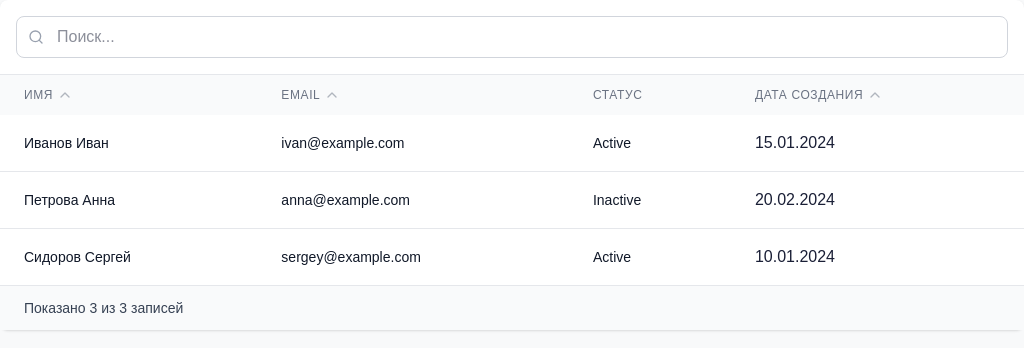
Scenario: DataTable Component › handles search functionality
// Ищем по имени
In the field with placeholder "Поиск...": (512, 37) [16,16,1008,58], type "Иванов"
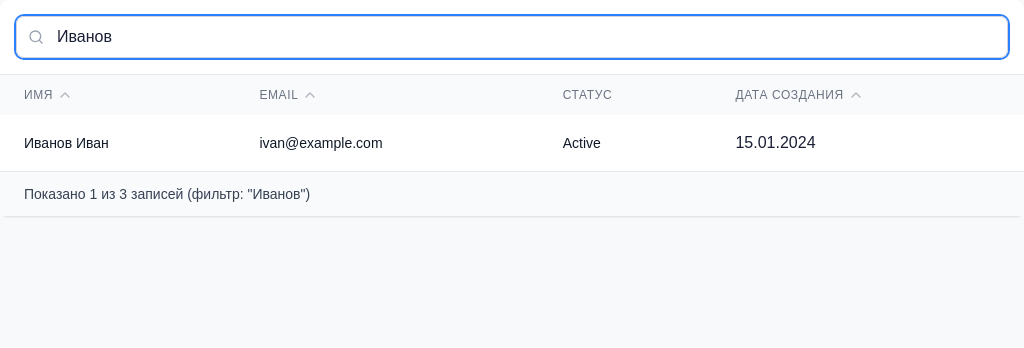
Expected: the text "Петрова Анна" is gone
Expected: the text "Сидоров Сергей" is gone
Expected: the text "Показано 1 из 3 записей (фильтр: \"Иванов\")" is shown, [24,186,310,202]
// Очищаем поиск
Clear the field with placeholder "Поиск...": (512, 37) [16,16,1008,58]
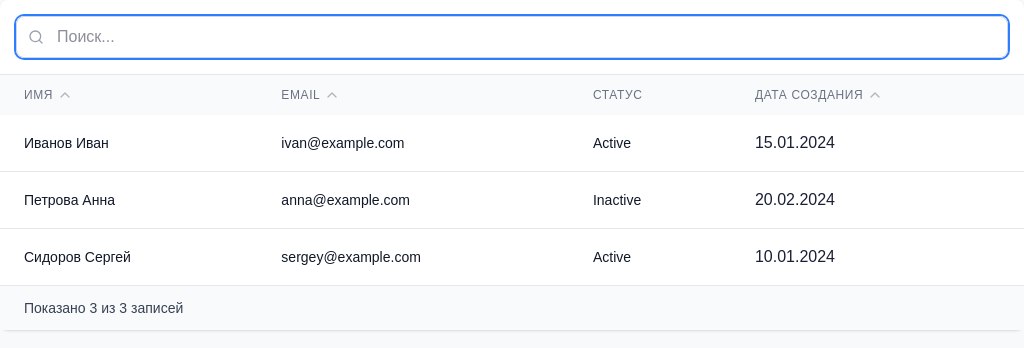
Expected: the text "Иванов Иван" is shown, [24,135,109,151]
Expected: the text "Петрова Анна" is shown, [24,192,115,208]
Expected: the text "Сидоров Сергей" is shown, [24,249,131,265]
